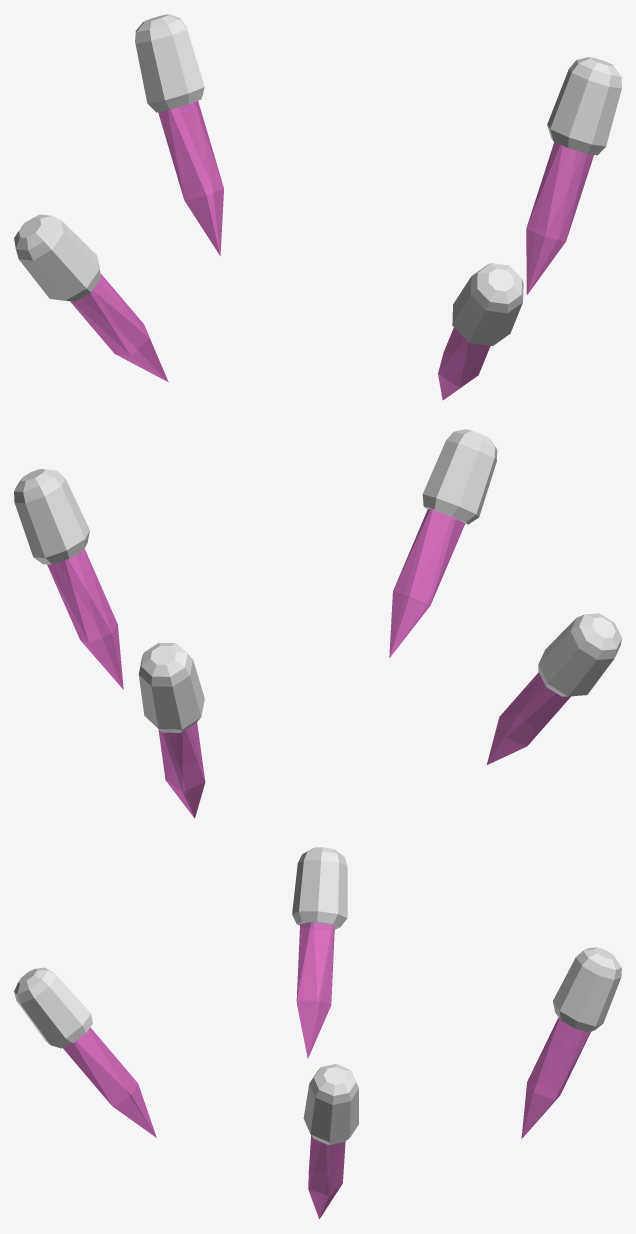
The model's file is Crystals.fbx.
3 views of the same model, one above another, from view 1: azimuth 30°, elevation 25°; view 2: azimuth 150°, elevation 25°; view 3: azimuth 270°, elevation 25° (orthographic). The views are drawn at different scales.
Parts seen in each view (by area): view 1: CrystalHolder.003, MagicstoneParticle.005, MagicstoneParticle.004, CrystalHolder, CrystalHolder.001, CrystalHolder.002, MagicstoneParticle.006, MagicstoneParticle.003; view 2: CrystalHolder.003, MagicstoneParticle.003, CrystalHolder.002, CrystalHolder, CrystalHolder.001, MagicstoneParticle.005, MagicstoneParticle.006, MagicstoneParticle.004; view 3: CrystalHolder.001, CrystalHolder, CrystalHolder.002, MagicstoneParticle.006, CrystalHolder.003, MagicstoneParticle.003, MagicstoneParticle.004, MagicstoneParticle.005.
Boxes of the visible parts, x1,y1,x2,y2 form: CrystalHolder.003: (547,57,621,155); MagicstoneParticle.005: (526,142,593,294); MagicstoneParticle.004: (158,101,223,256); CrystalHolder: (14,214,101,301); CrystalHolder.001: (135,14,204,112); CrystalHolder.002: (452,263,523,345); MagicstoneParticle.006: (70,273,168,382); MagicstoneParticle.003: (438,327,490,400); CrystalHolder.003: (14,469,89,564); MagicstoneParticle.003: (389,508,465,657); CrystalHolder.002: (422,429,497,524); CrystalHolder: (538,613,621,696); CrystalHolder.001: (138,642,204,732); MagicstoneParticle.005: (47,549,123,689); MagicstoneParticle.006: (487,672,570,764); MagicstoneParticle.004: (158,722,205,818); CrystalHolder.001: (553,947,621,1032); CrystalHolder: (292,847,347,929); CrystalHolder.002: (14,967,92,1048); MagicstoneParticle.006: (296,922,334,1058); CrystalHolder.003: (303,1064,358,1145); MagicstoneParticle.003: (63,1027,156,1137); MagicstoneParticle.004: (521,1017,590,1139); MagicstoneParticle.005: (308,1135,345,1218).
Size of the model in its own units: 5.05 by 1.68 by 5.05.
